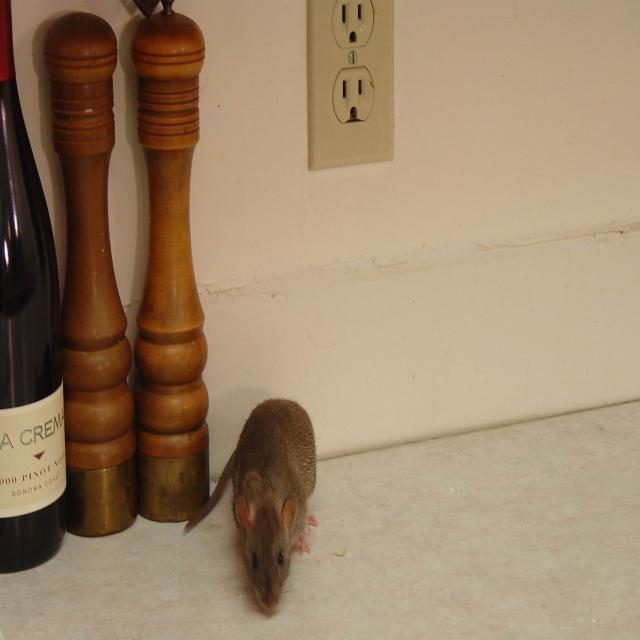rat: (205, 369, 330, 619)
